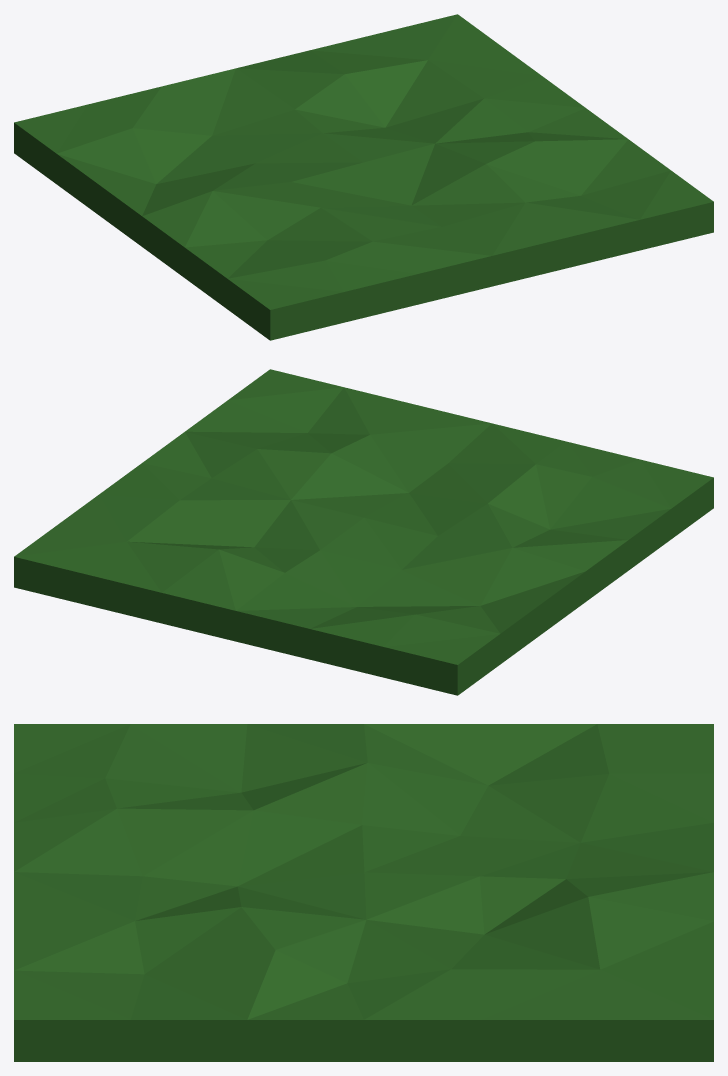
File: Grass.fbx
The picture shows the model from 3 angles, top to bottom: view 1: azimuth 30°, elevation 25°; view 2: azimuth 150°, elevation 25°; view 3: azimuth 270°, elevation 25°; orthographic projection. The views are drawn at different scales.
Visible parts, largest first — view 1: Grass_Block.001; view 2: Grass_Block.001; view 3: Grass_Block.001.
Boxes of the visible parts, <box> form: Grass_Block.001: <box>14,14,713,340</box>; Grass_Block.001: <box>14,369,713,695</box>; Grass_Block.001: <box>14,724,713,1061</box>.
Size of the model in its own units: 200 by 18.59 by 200.
